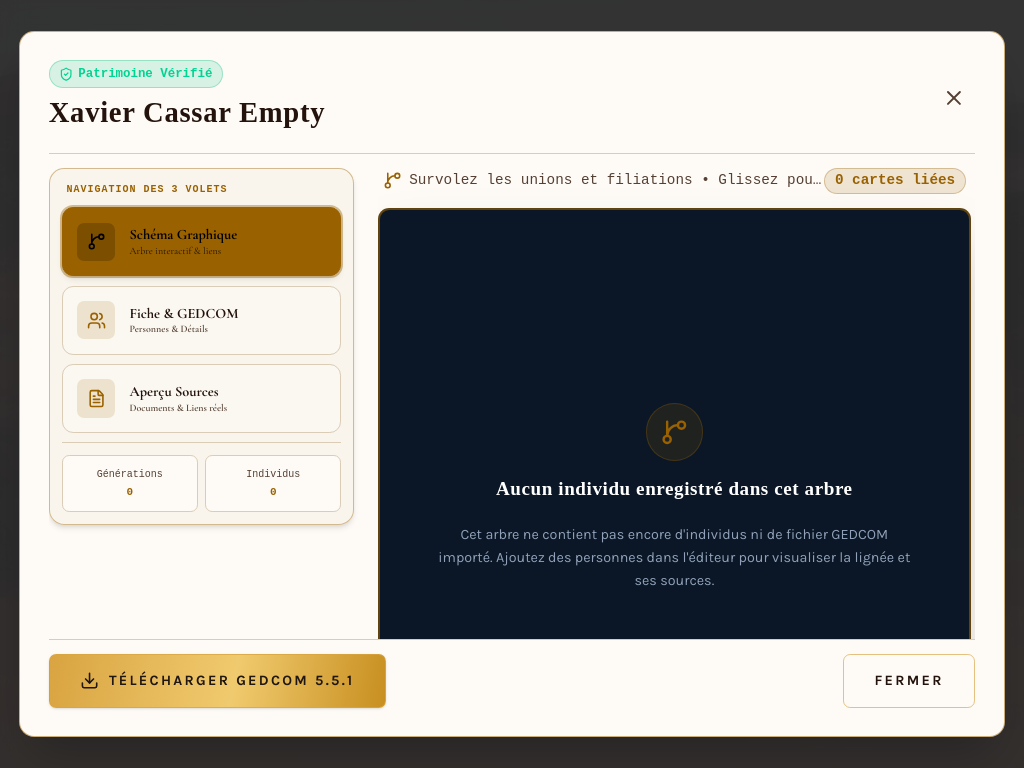
Test: FamilyCardModal Open Details source detection & empty states › never injects fake individuals or gallery photos for an empty tree
The image size is (1024, 768).
Expected: the heading "Aucun individu enregistré dans cet arbre" is shown, [496, 475, 853, 504]
Click the text "Aperçu Sources".
click(174, 392)  # box [130, 383, 219, 400]
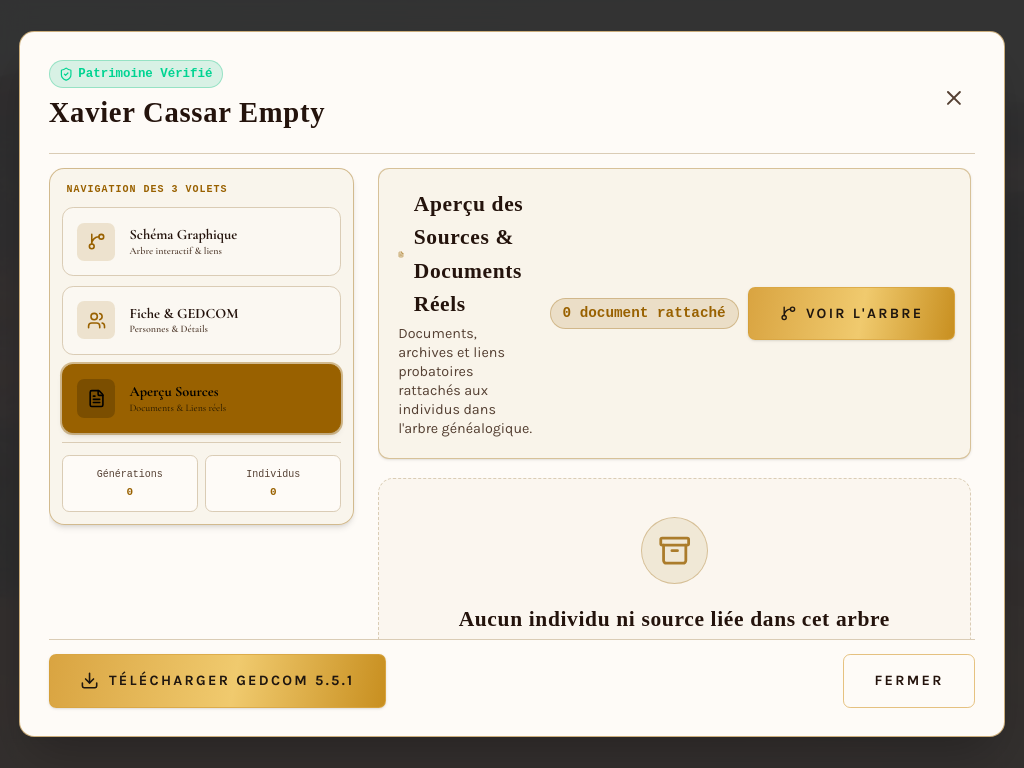
Now the heading "Aucun individu ni source liée dans cet arbre" is shown, box [459, 607, 890, 631]
